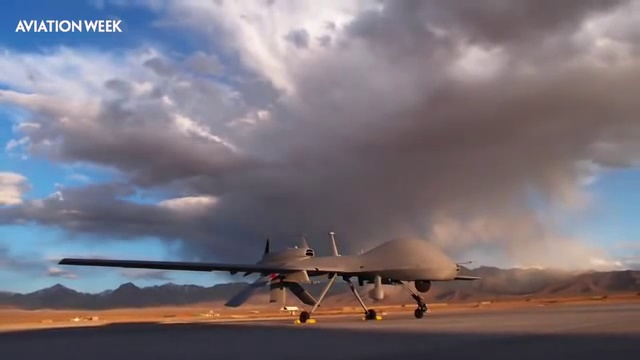military drone: (58, 231, 482, 322)
